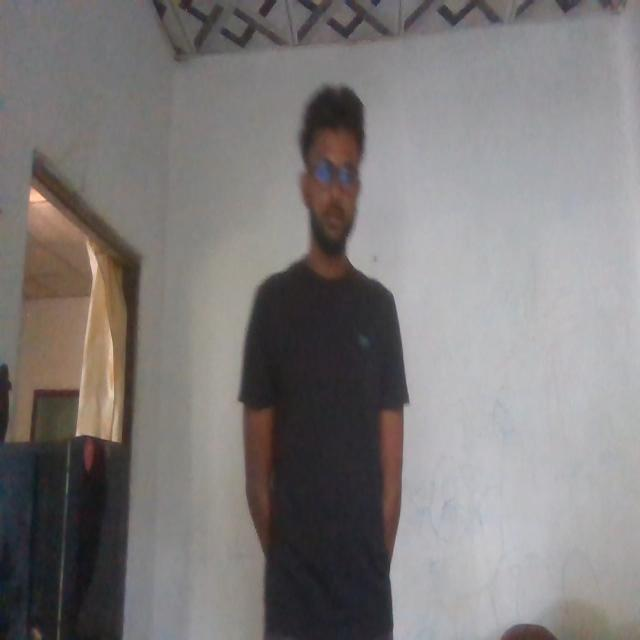Person: (240, 76, 417, 640)
